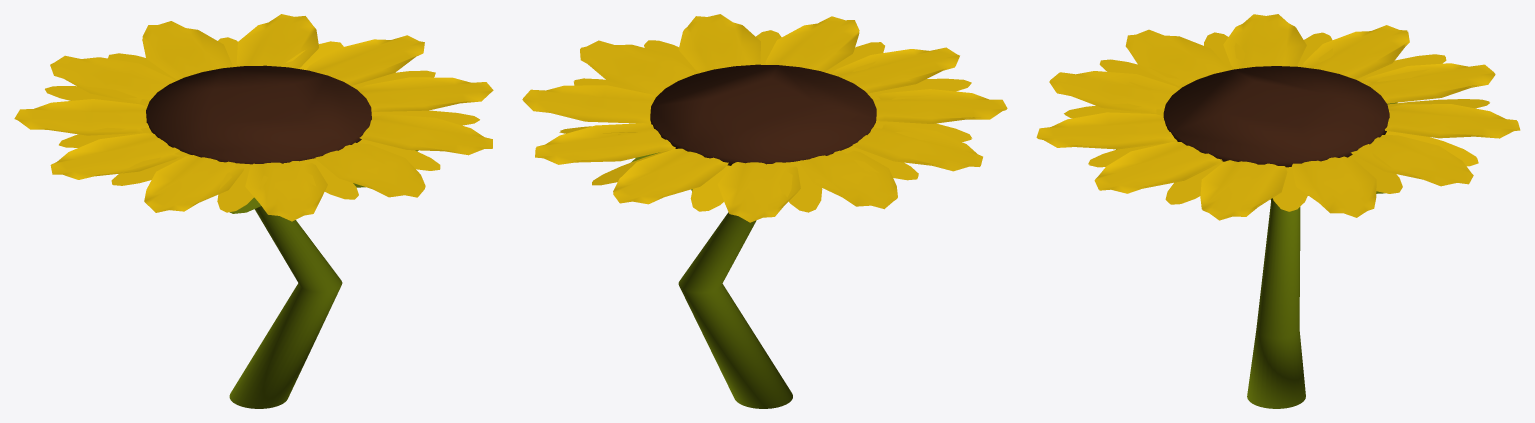
The model's file is Sunflower crooked.fbx.
3 renders of one model, left to right at view 1: azimuth 30°, elevation 25°; view 2: azimuth 150°, elevation 25°; view 3: azimuth 270°, elevation 25°, orthographic.
Visible parts, largest first — view 1: Flowerstem; view 2: Flowerstem; view 3: Flowerstem.
Boxes of the visible parts, left/top/right/bottom form: Flowerstem: left=14, top=14, right=493, bottom=408; Flowerstem: left=522, top=14, right=1007, bottom=408; Flowerstem: left=1036, top=14, right=1520, bottom=408.
Size of the model in its own units: 131 by 89.38 by 131.
